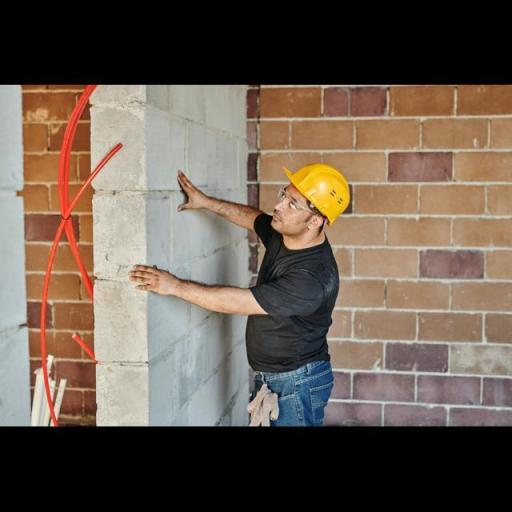Person: (111, 135, 381, 426)
helmet: (277, 156, 358, 230)
none: (232, 195, 341, 423)
